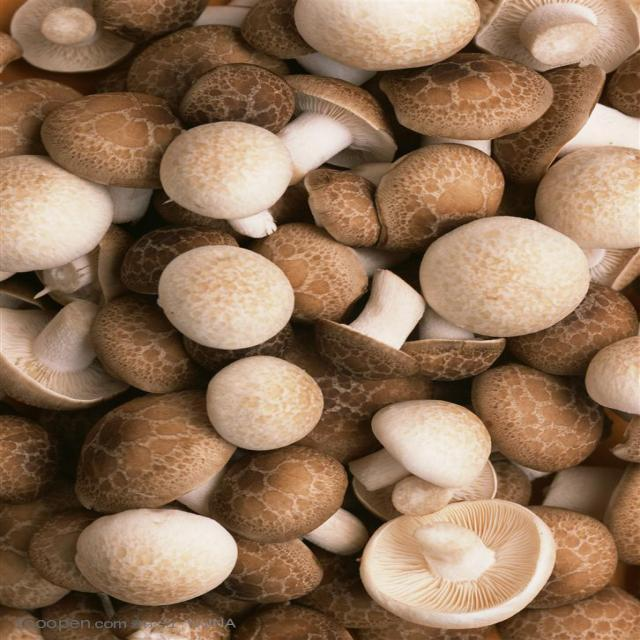Lentinus edodes: (369, 504, 562, 624), (415, 215, 584, 336), (75, 401, 228, 508), (80, 509, 239, 602), (160, 122, 284, 238), (228, 452, 371, 552), (0, 302, 128, 413), (388, 57, 556, 139), (0, 154, 115, 268), (471, 365, 600, 465), (348, 402, 490, 489), (170, 253, 294, 350), (270, 78, 395, 174), (476, 0, 640, 69), (320, 268, 424, 375), (45, 85, 161, 177), (11, 0, 146, 72)
